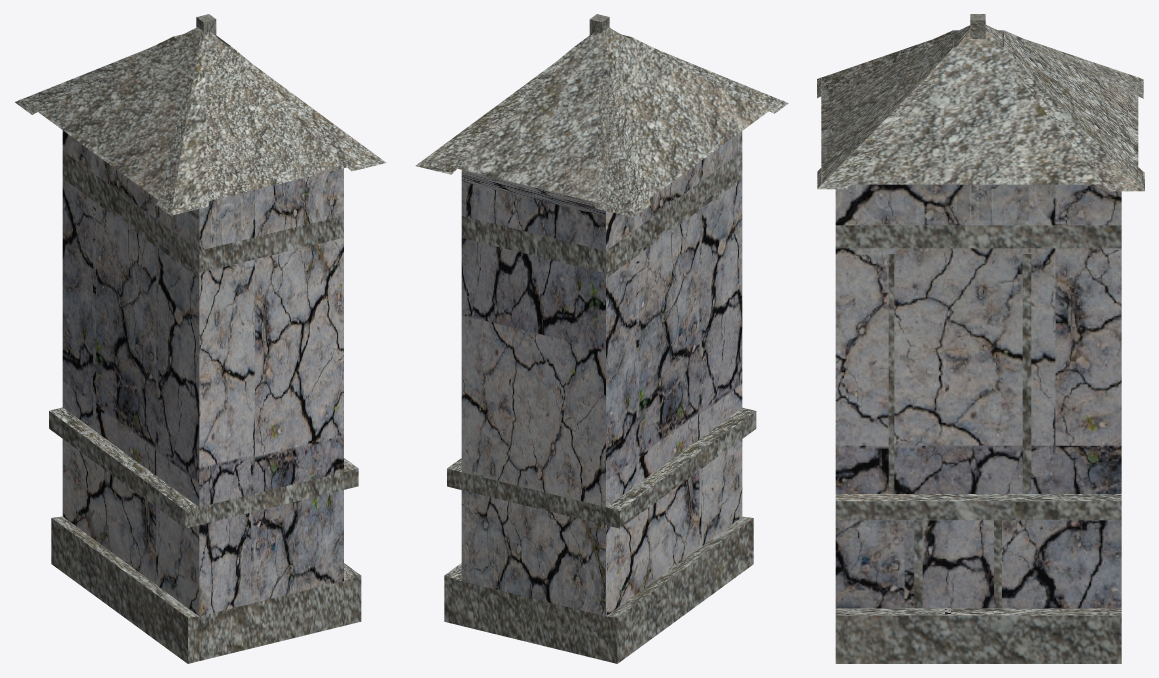
File: Hittites_wall_tower_semidemolished.fbx
3 views of the same model, side by side, from view 1: azimuth 30°, elevation 25°; view 2: azimuth 150°, elevation 25°; view 3: azimuth 270°, elevation 25° (orthographic). The views are drawn at different scales.
Parts seen in each view (by area): view 1: Cube, Cube.002; view 2: Cube, Cube.002; view 3: Cube, Cube.002.
Part boxes in pixels (box(x1,y1,x2,y2)): Cube: box(49, 130, 361, 663); Cube.002: box(15, 27, 385, 215); Cube: box(444, 131, 756, 663); Cube.002: box(415, 27, 788, 217); Cube: box(835, 184, 1121, 663); Cube.002: box(817, 25, 1144, 191).
Bounding box in the file's own units: 331 × 835 × 412.
3 materials, 3 textured.
